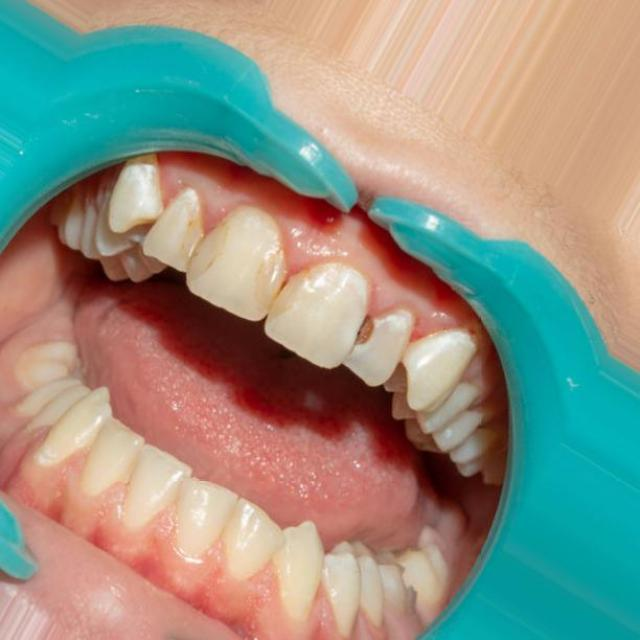caries: (248, 246, 307, 313), (174, 215, 229, 277), (346, 312, 382, 350)
